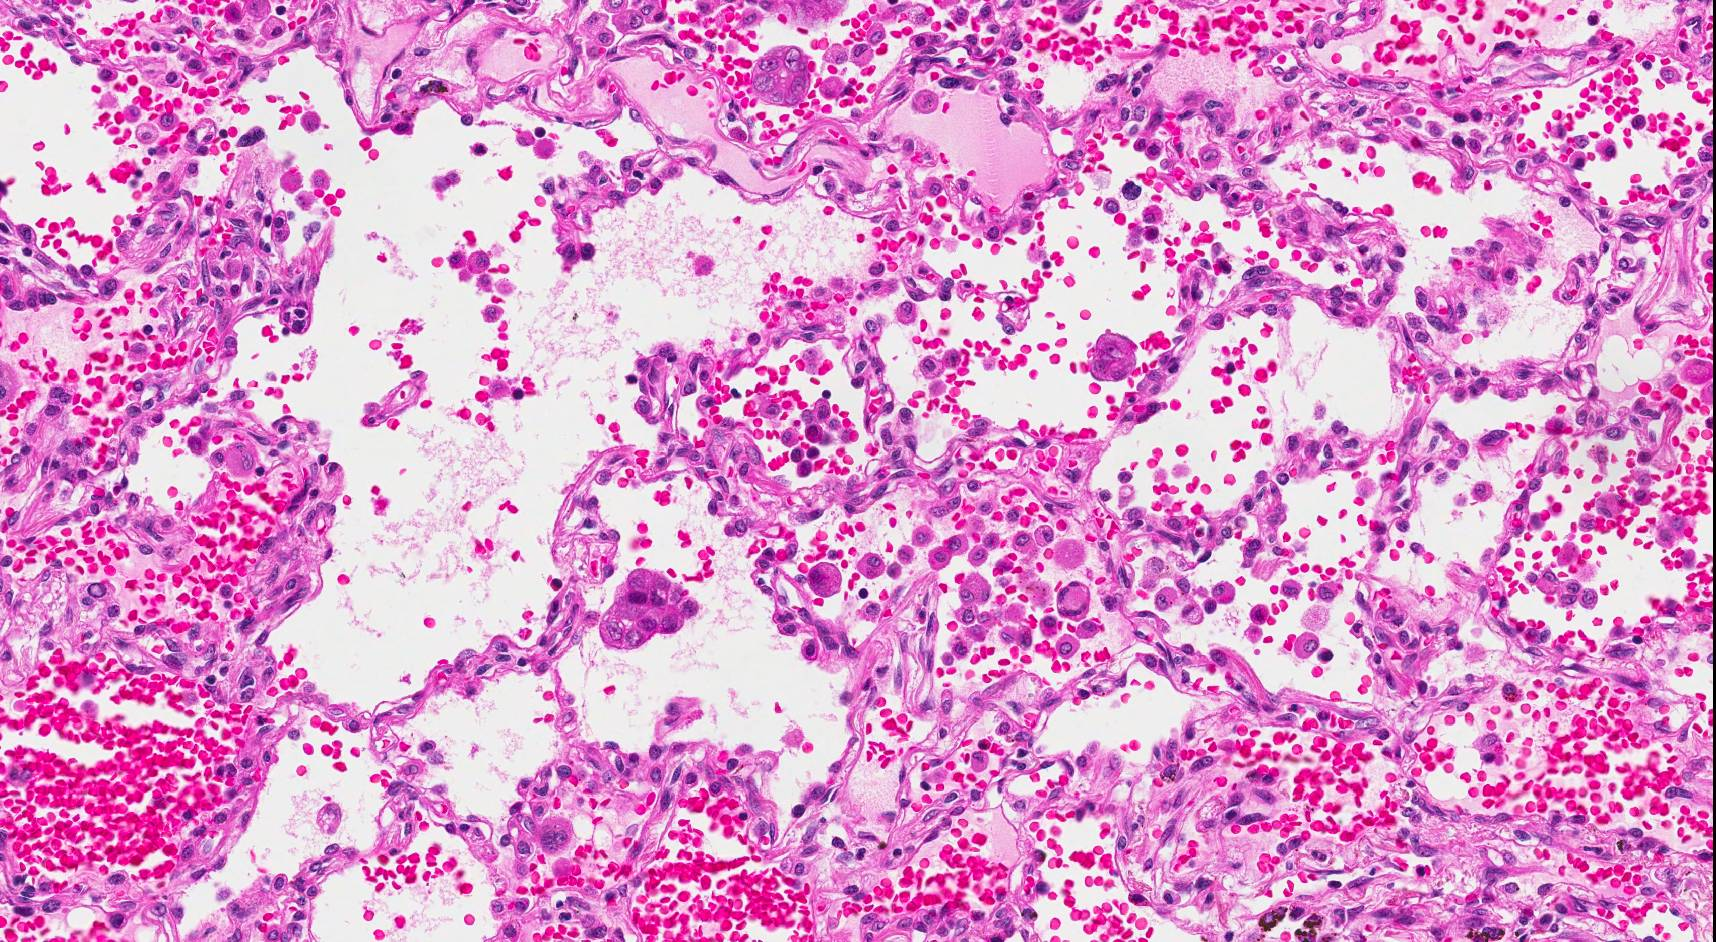stas: (599, 569, 699, 651), (746, 44, 814, 107), (1086, 332, 1140, 381)
